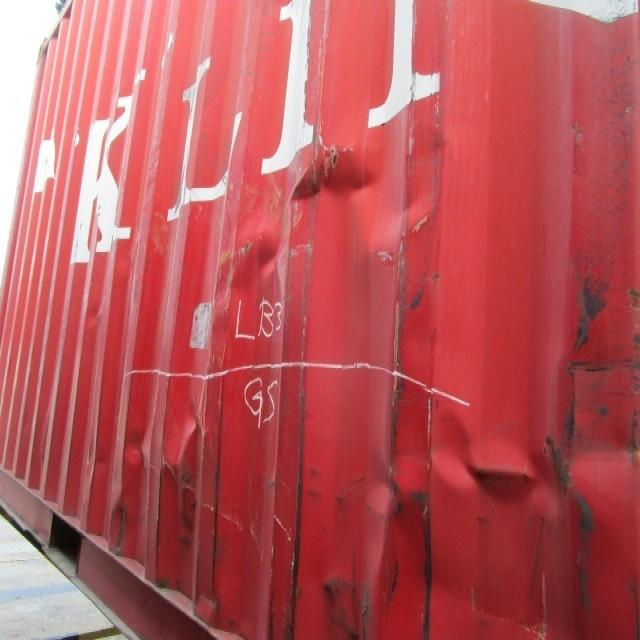Deframe_or_Dent: (94, 110, 635, 566)
